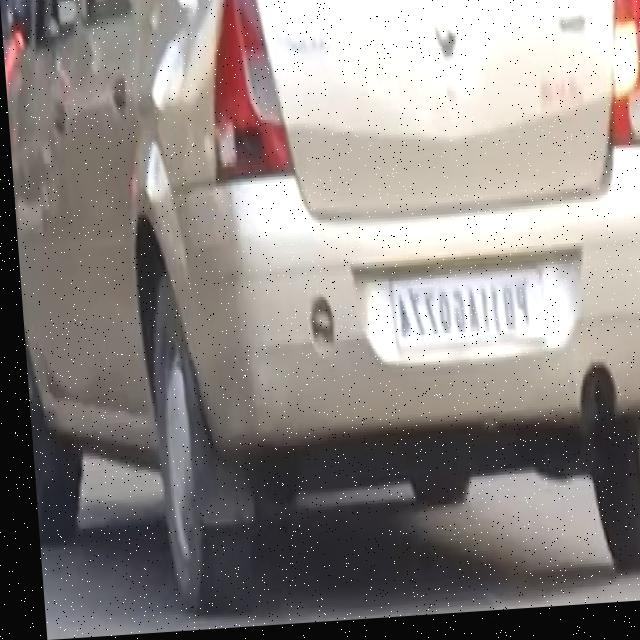plate: (382, 270, 546, 367)
